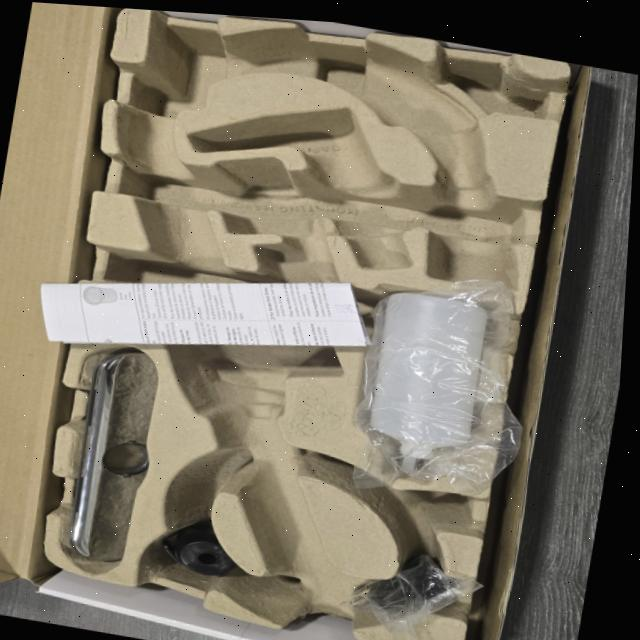1m: (116, 31, 518, 636)
2m: (193, 108, 415, 267)
3: (367, 292, 490, 473)
4: (70, 350, 157, 561)
5: (161, 521, 232, 576)
6m: (321, 472, 474, 544)
7: (345, 556, 486, 640)
8: (38, 282, 372, 345)
